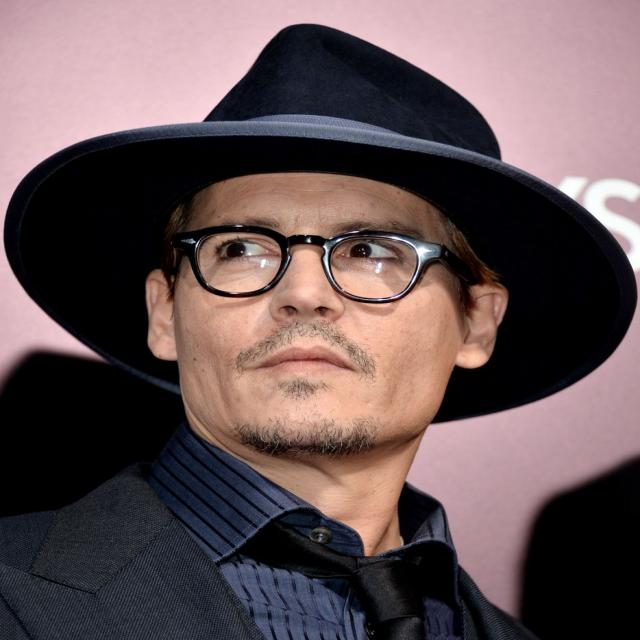Glasses: (165, 221, 472, 308)
